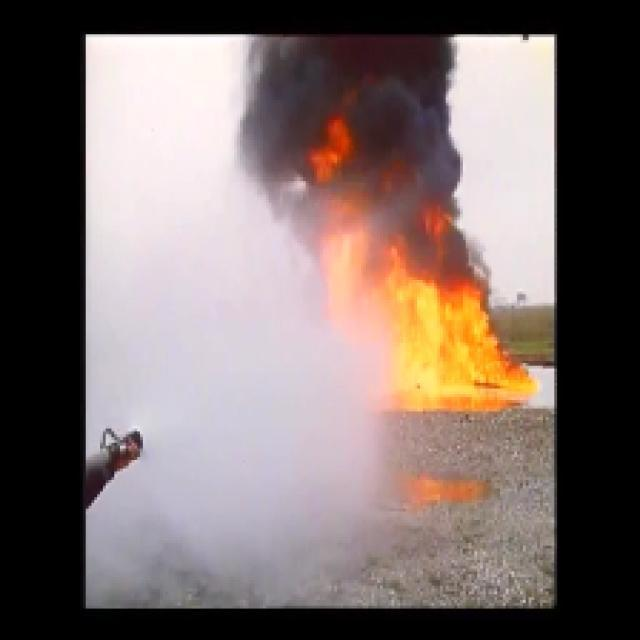Fire: (320, 197, 534, 412)
Smoke: (248, 37, 466, 203)
